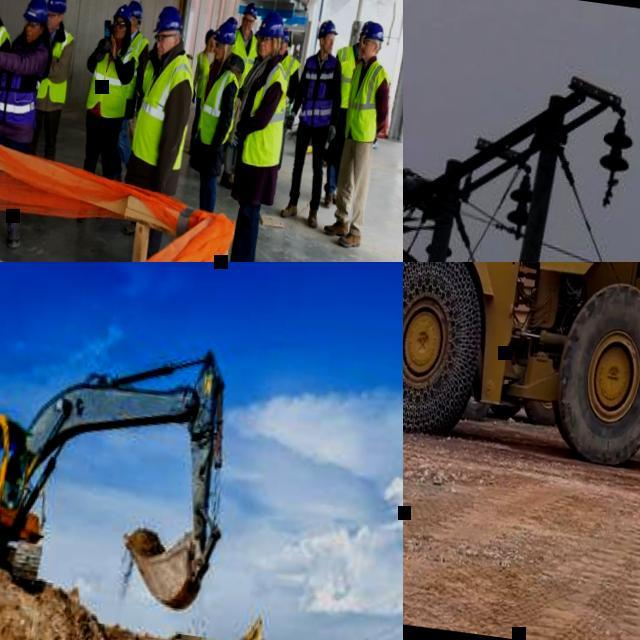helmet: (152, 4, 184, 36), (256, 8, 286, 40), (21, 0, 50, 24), (212, 20, 236, 46), (112, 2, 134, 25), (317, 18, 340, 40), (362, 22, 386, 42), (126, 0, 144, 19), (46, 0, 69, 14), (242, 2, 258, 19), (204, 28, 217, 46), (280, 30, 292, 44), (226, 16, 240, 27), (362, 21, 373, 33)
vest: (128, 47, 200, 172), (239, 60, 293, 171), (0, 34, 53, 127), (84, 39, 140, 122), (342, 58, 392, 145), (192, 68, 242, 149), (296, 51, 338, 130), (34, 26, 75, 104), (121, 32, 150, 100), (228, 29, 260, 90), (329, 44, 358, 109), (273, 54, 302, 118), (190, 52, 211, 102), (0, 20, 13, 93)
